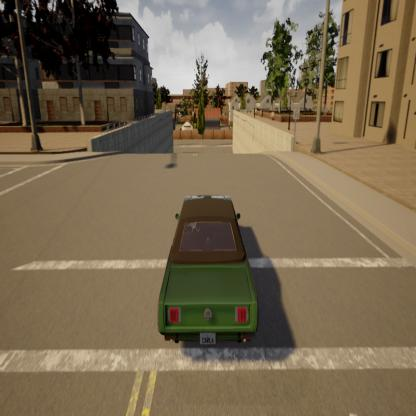Cars: (132, 160, 289, 412)
